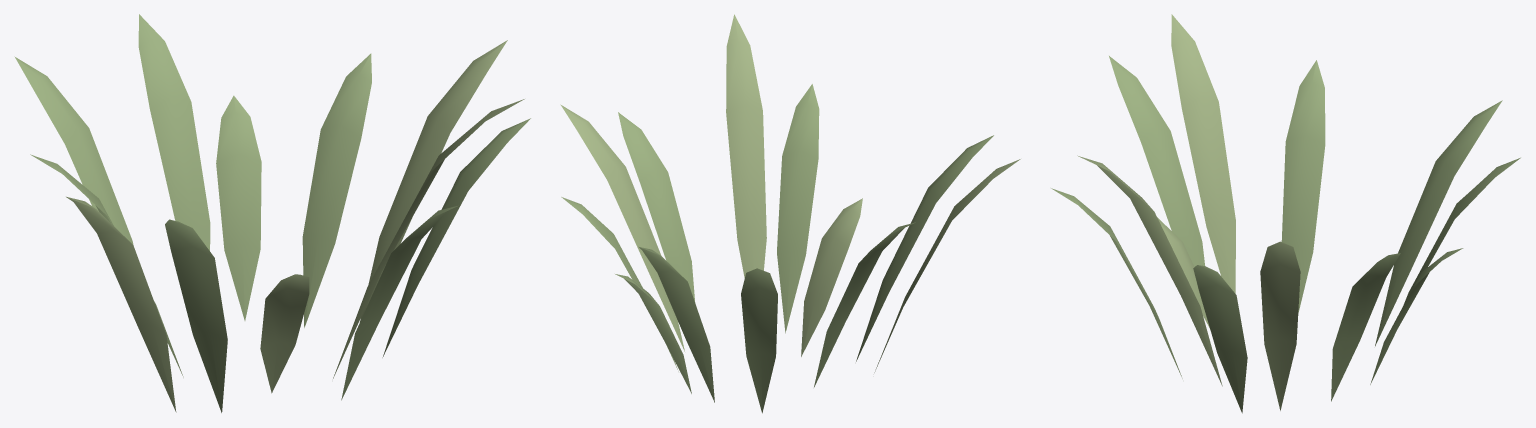
Rendered from SM_Grass_0.fbx.
3 views of the same model, side by side, from view 1: azimuth 30°, elevation 25°; view 2: azimuth 150°, elevation 25°; view 3: azimuth 270°, elevation 25° (orthographic). The views are drawn at different scales.
Parts seen in each view (by area): view 1: SM_Grass_0; view 2: SM_Grass_0; view 3: SM_Grass_0.
Boxes of the visible parts, <box> form: SM_Grass_0: <box>14,14,530,412</box>; SM_Grass_0: <box>560,14,1020,413</box>; SM_Grass_0: <box>1051,14,1520,413</box>.
Size of the model in its own units: 115 by 105 by 68.98.
